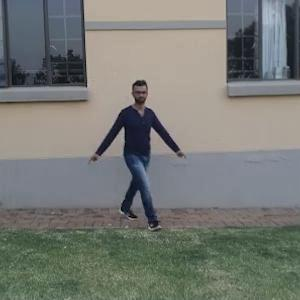land: (83, 75, 191, 238)
